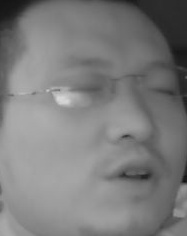glass: (49, 70, 113, 107)
mouth: (104, 156, 166, 200)
